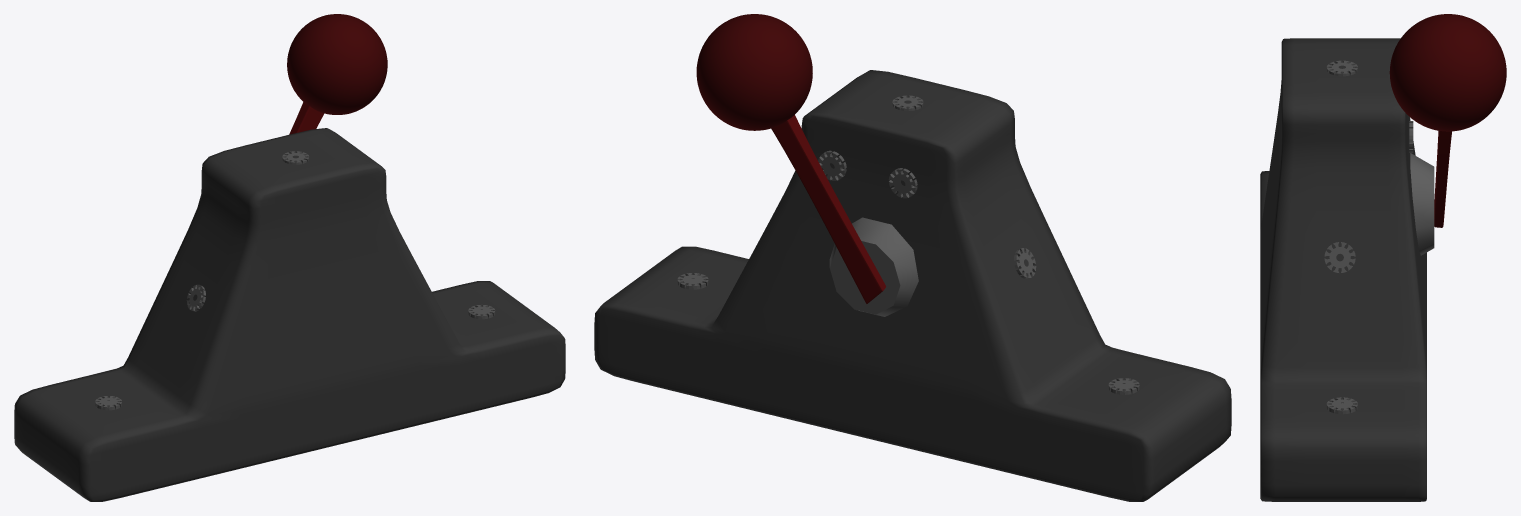
The model's file is leaver.fbx.
3 views of the same model, side by side, from view 1: azimuth 30°, elevation 25°; view 2: azimuth 150°, elevation 25°; view 3: azimuth 270°, elevation 25° (orthographic). The views are drawn at different scales.
Visible parts, largest first — view 1: Cube, Sphere, Cube.004; view 2: Cube, Sphere, Cube.004, Cylinder; view 3: Cube, Sphere, Cylinder, Cube.004, Gear.003, Gear.002, Gear.005.
Boxes of the visible parts, x1=… form: Cube: x1=14, y1=128, x2=565, y2=501; Sphere: x1=287, y1=14, x2=387, y2=114; Cube.004: x1=289, y1=102, x2=324, y2=134; Cube: x1=594, y1=70, x2=1231, y2=501; Sphere: x1=696, y1=14, x2=812, y2=130; Cube.004: x1=771, y1=115, x2=885, y2=303; Cylinder: x1=829, y1=217, x2=918, y2=316; Cube: x1=1260, y1=38, x2=1426, y2=501; Sphere: x1=1389, y1=14, x2=1506, y2=131; Cylinder: x1=1410, y1=153, x2=1434, y2=255; Cube.004: x1=1434, y1=130, x2=1451, y2=227; Gear.003: x1=1324, y1=242, x2=1355, y2=272; Gear.002: x1=1326, y1=397, x2=1357, y2=414; Gear.005: x1=1326, y1=60, x2=1357, y2=76.
Bounding box in the file's own units: 31.7 × 21.91 × 12.07.
